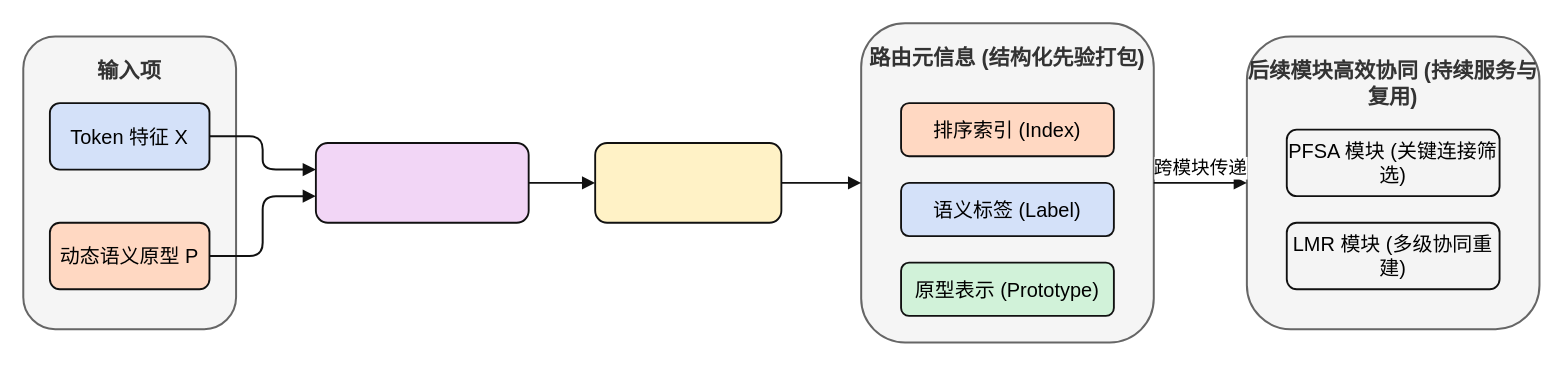
Some shapes in this 1564 by 367 pixel diagram are drawn without their labels. Each missing label, with the centre of its shape:
"归属置信度量化 (区分关键与冗余)" belongs at [688,182].
"计算关联概率 (Dot Product / Softmax)" belongs at [421,182].
